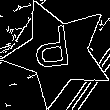P_S: (37, 26, 80, 80)
